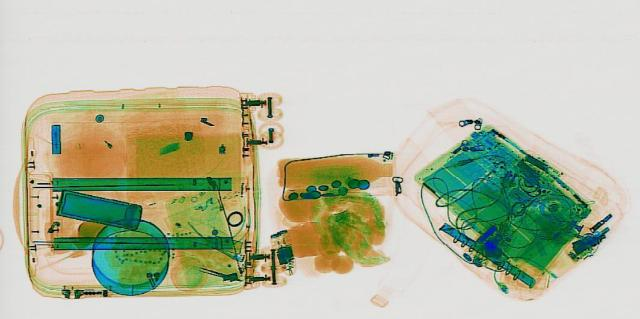Knife: (192, 262, 248, 283)
